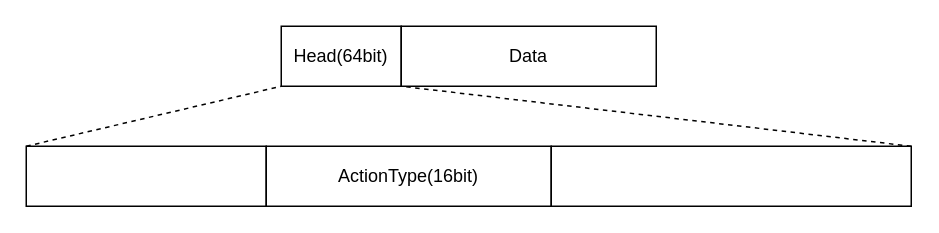
The diagram is 939 pixels wide and 233 high, and some of its shapes have lost their labels. The box of each missing label's shape, as (x1, y1, x2, y2) in pixels:
DataType(4bit): (25, 145, 266, 206)
Default(44bit): (550, 145, 911, 206)
